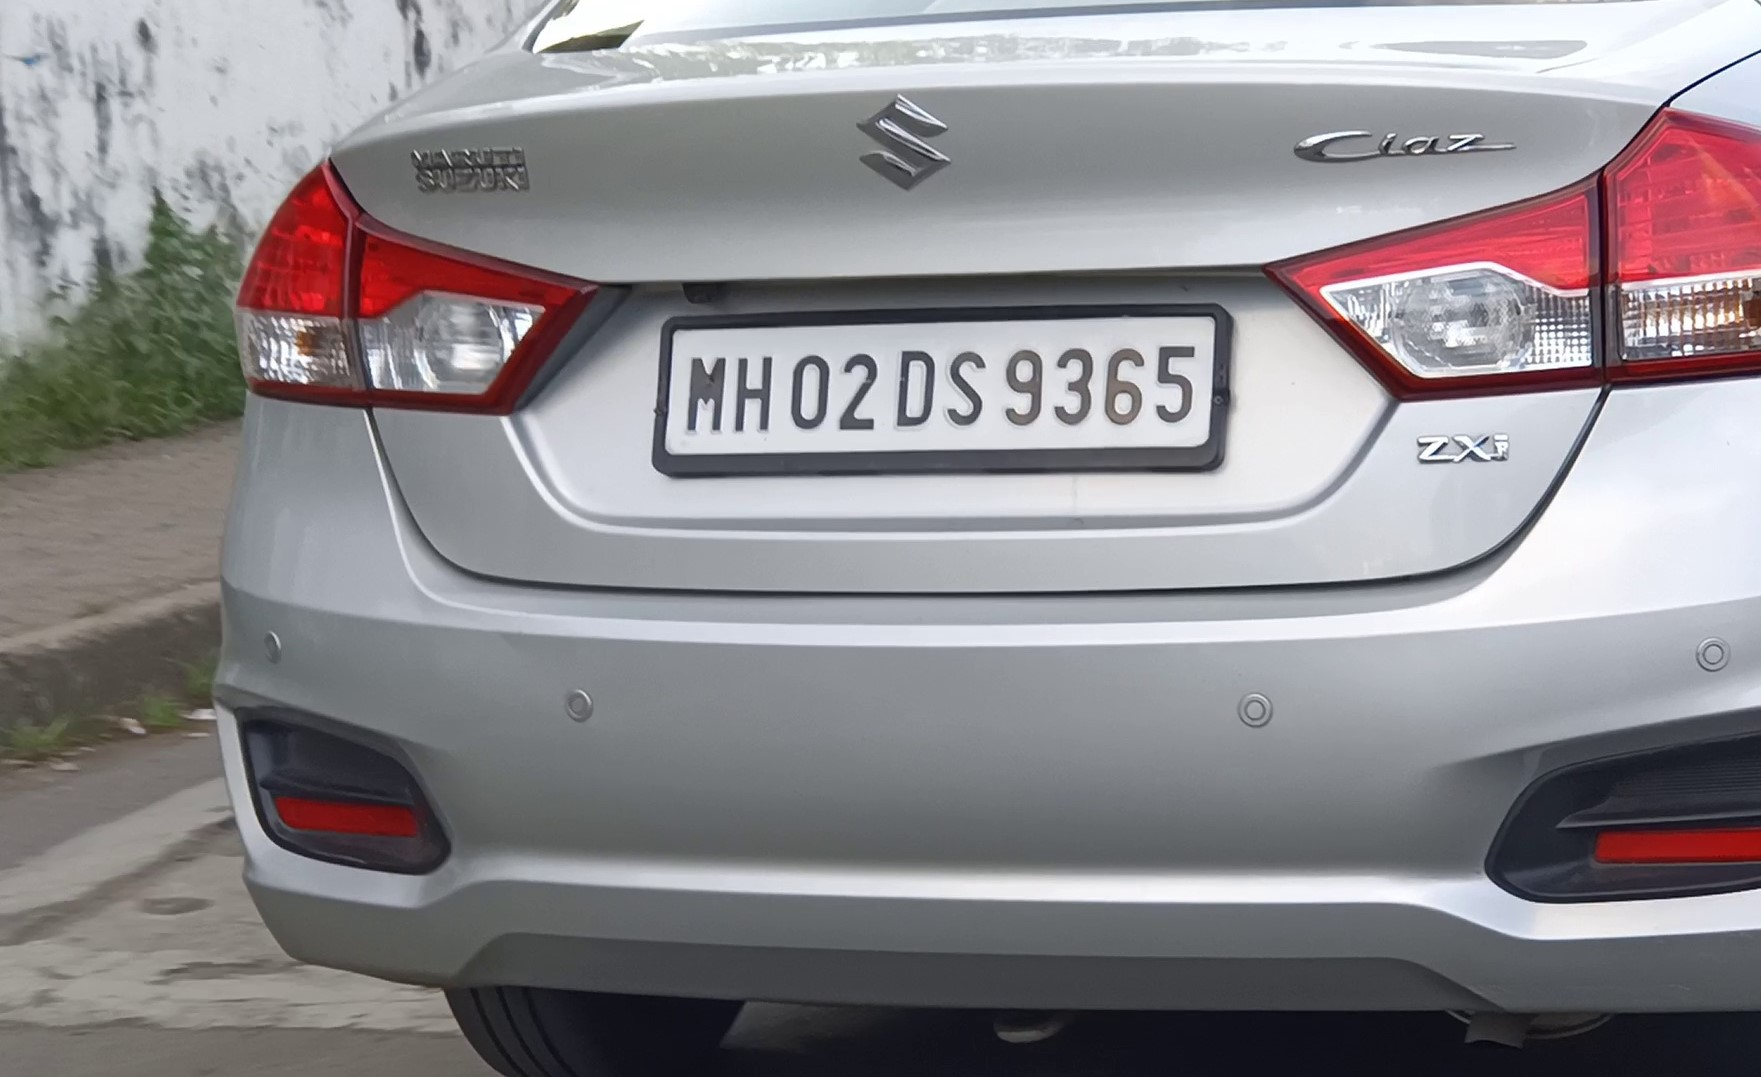MH02DS9365: (664, 313, 1217, 448)
